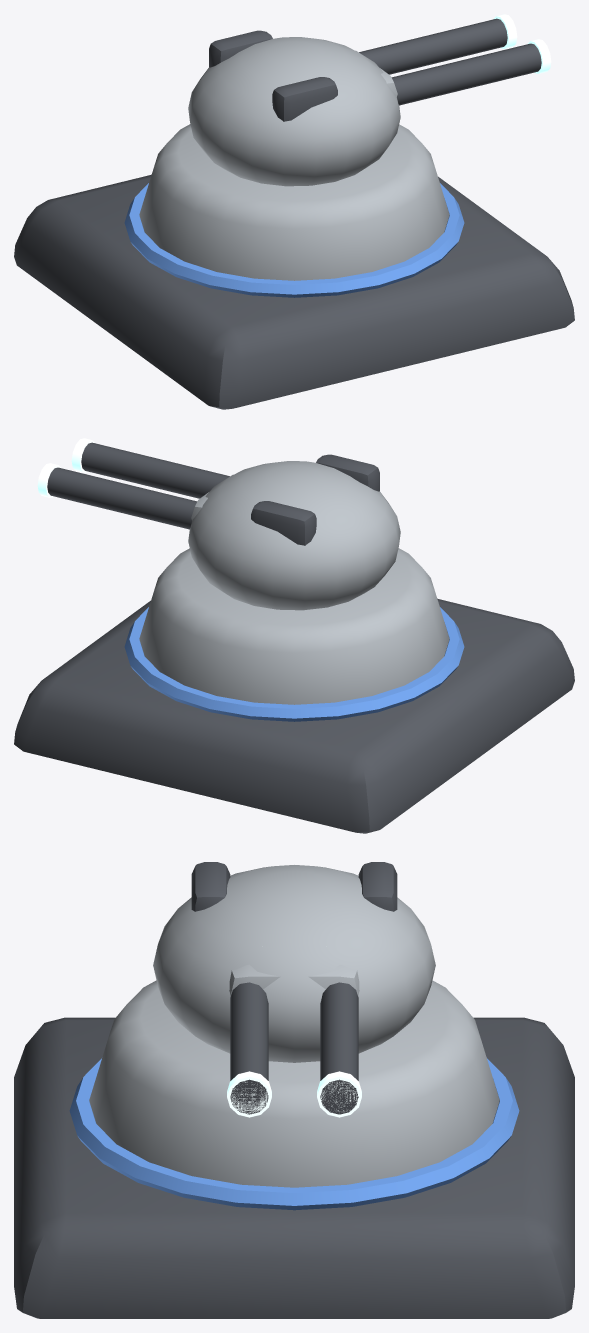
The model's file is turret_hum.glb.
3 renders of one model, top to bottom at view 1: azimuth 30°, elevation 25°; view 2: azimuth 150°, elevation 25°; view 3: azimuth 270°, elevation 25°, orthographic. The views are drawn at different scales.
Parts seen in each view (by area): view 1: turret_hum, gun_m; view 2: turret_hum, gun_m; view 3: turret_hum, gun_m.
Part boxes in pixels (left/top/right/bottom): turret_hum: left=14, top=124, right=574, bottom=409; gun_m: left=188, top=14, right=551, bottom=186; turret_hum: left=14, top=548, right=574, bottom=833; gun_m: left=37, top=438, right=400, bottom=610; turret_hum: left=14, top=980, right=574, bottom=1318; gun_m: left=153, top=862, right=435, bottom=1117.
Bounding box in the file's own units: 0.9865 × 0.56 × 0.8729.
